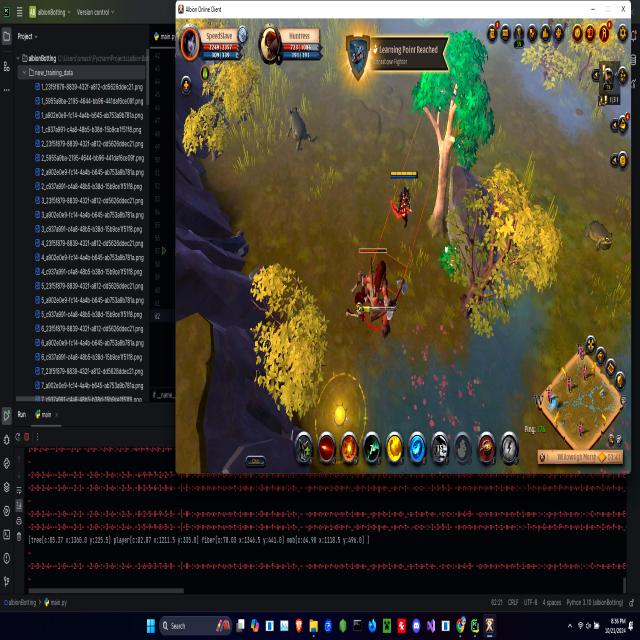hide: (435, 236, 466, 284)
ore: (354, 244, 403, 340), (280, 88, 320, 164)
red: (390, 167, 420, 228)
silver: (368, 99, 454, 299)
wisp caged: (411, 31, 492, 243)
